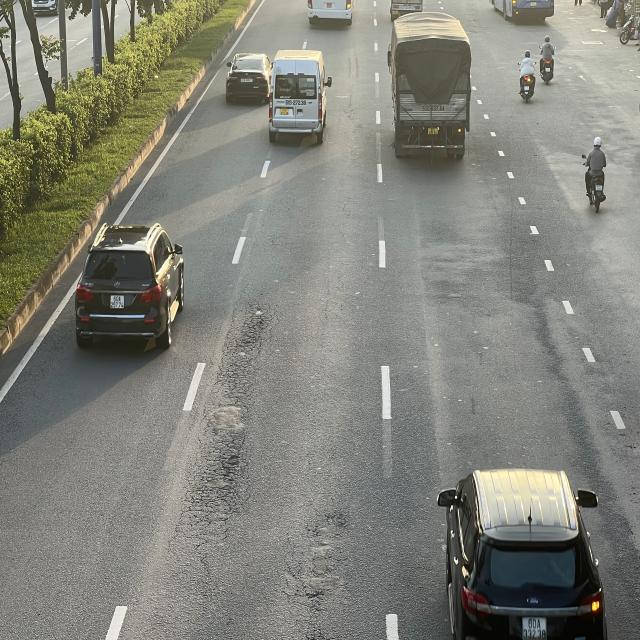car: (440, 469, 607, 640), (77, 222, 189, 353), (225, 52, 272, 104)
truck: (389, 15, 475, 162)
van: (268, 47, 330, 142)
